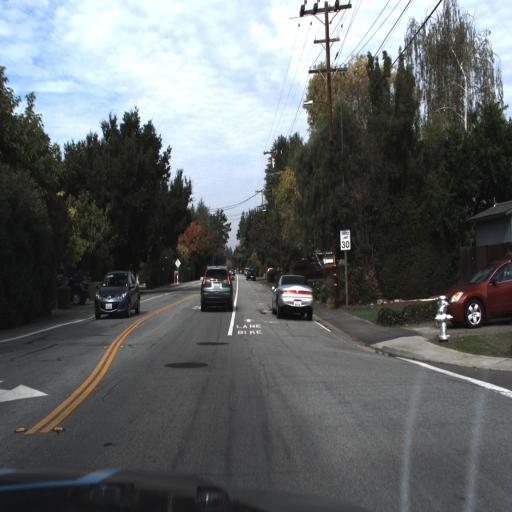car: (439, 253, 512, 330), (91, 265, 142, 320), (92, 269, 143, 318), (195, 261, 237, 317), (273, 274, 313, 321), (287, 253, 329, 276), (244, 262, 260, 283)
